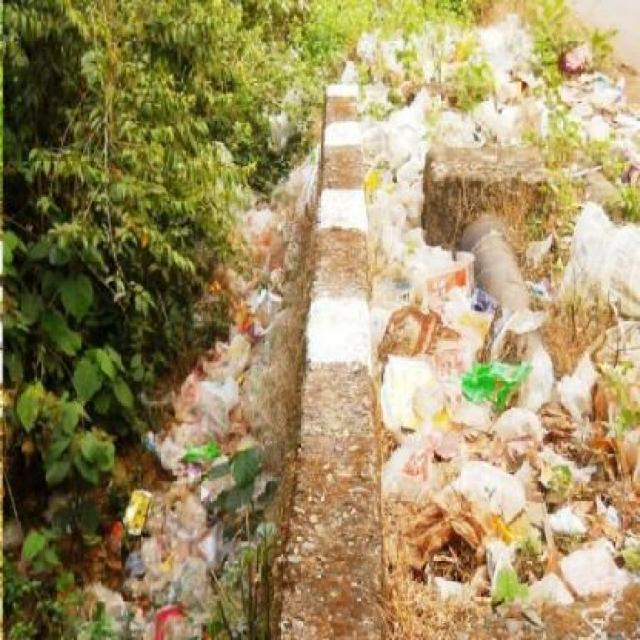garbage: (374, 252, 496, 610), (494, 417, 630, 590), (103, 485, 236, 636), (562, 206, 639, 402), (358, 99, 440, 246), (560, 49, 639, 154), (168, 382, 226, 486), (239, 203, 278, 330), (448, 100, 537, 144), (200, 332, 242, 380)
